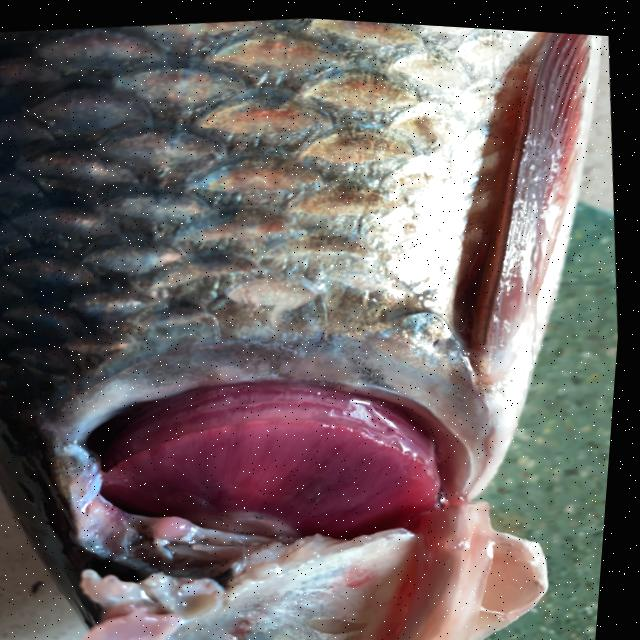Fresh: (46, 336, 504, 595)
